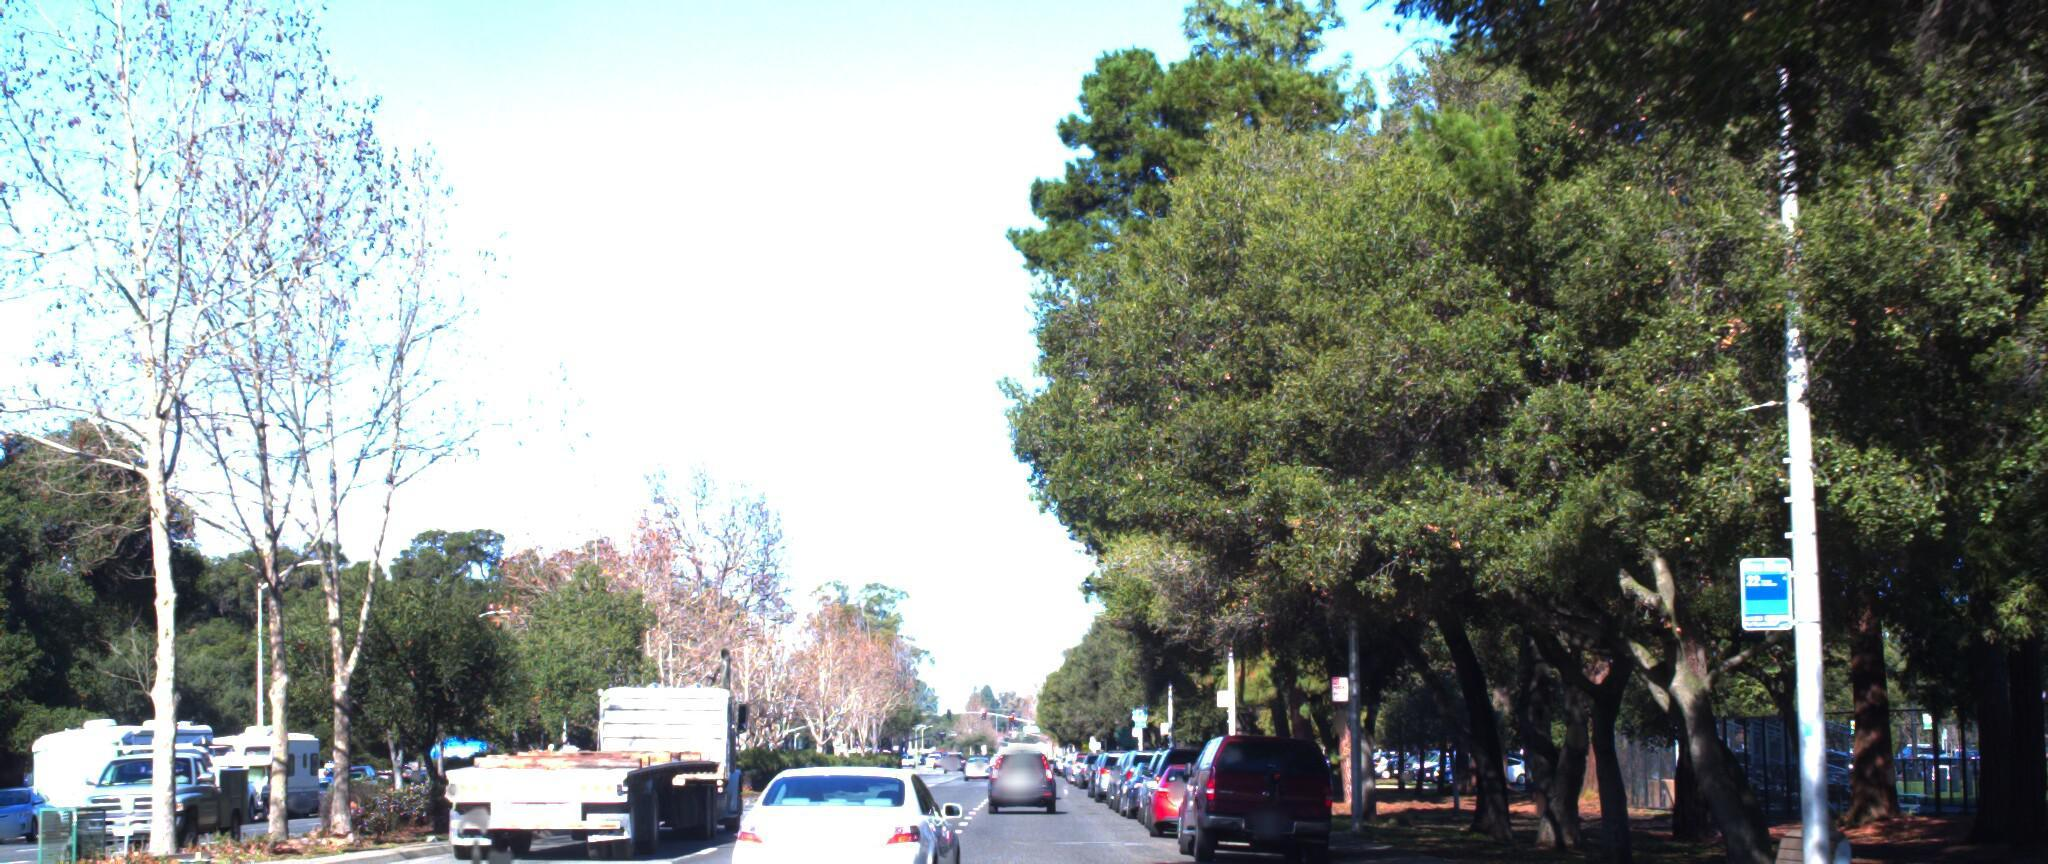car: (718, 747, 967, 864), (51, 722, 259, 861), (1170, 732, 1327, 863), (981, 720, 1058, 794)
truck: (462, 604, 785, 864)
